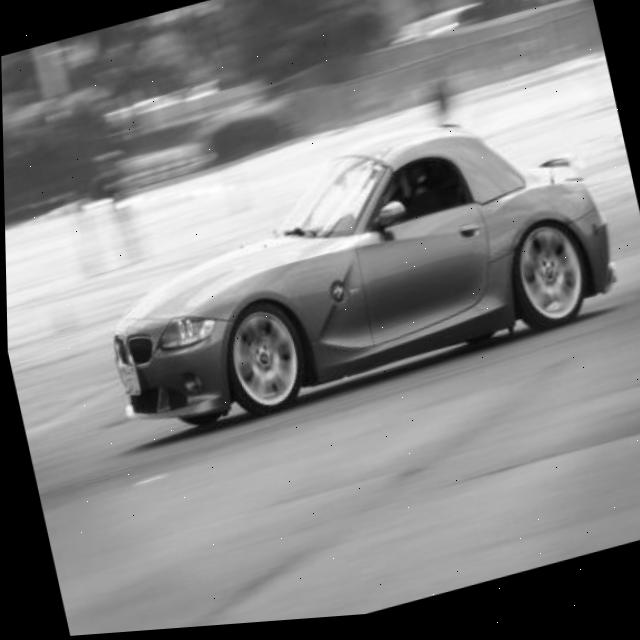car: (78, 75, 640, 458)
